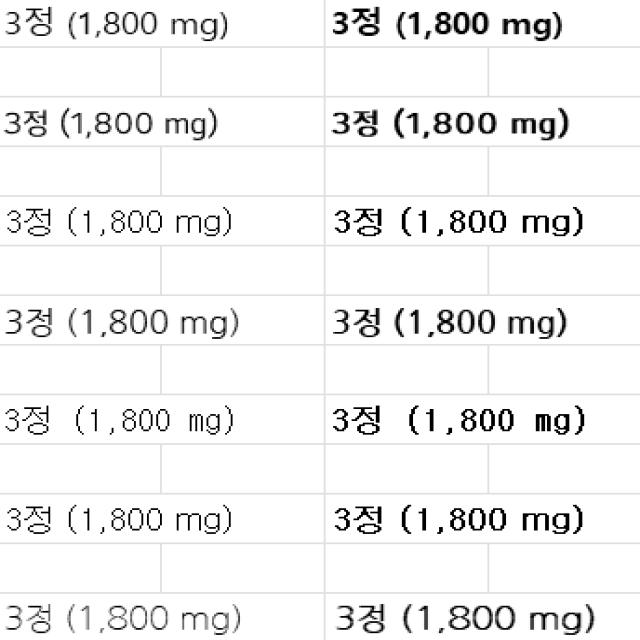bold: (329, 199, 587, 244), (326, 1, 570, 46), (327, 299, 572, 341), (329, 399, 592, 438), (328, 102, 571, 144), (331, 600, 598, 638), (329, 498, 588, 536)
normal: (3, 596, 245, 640), (2, 299, 242, 343), (1, 0, 235, 45), (0, 101, 224, 146), (2, 200, 234, 242), (3, 500, 237, 540), (1, 403, 238, 441)
